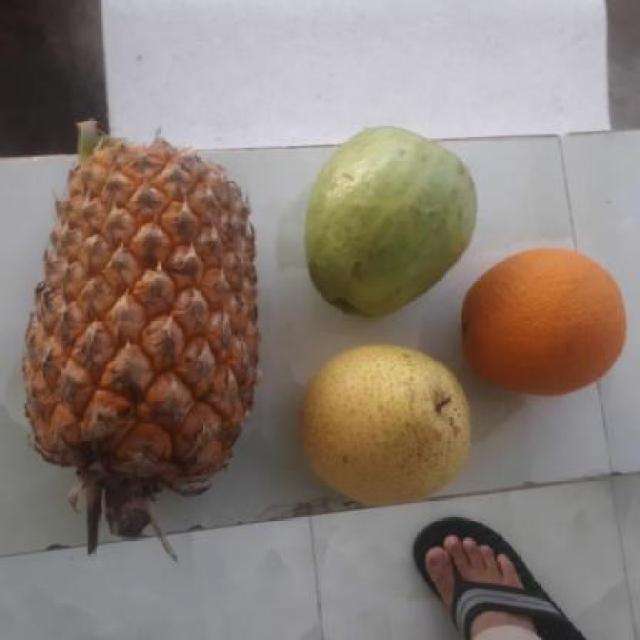guava: (298, 125, 478, 314)
oren: (453, 244, 630, 401)
pear: (295, 346, 478, 509)
pineapple: (26, 132, 249, 486)
